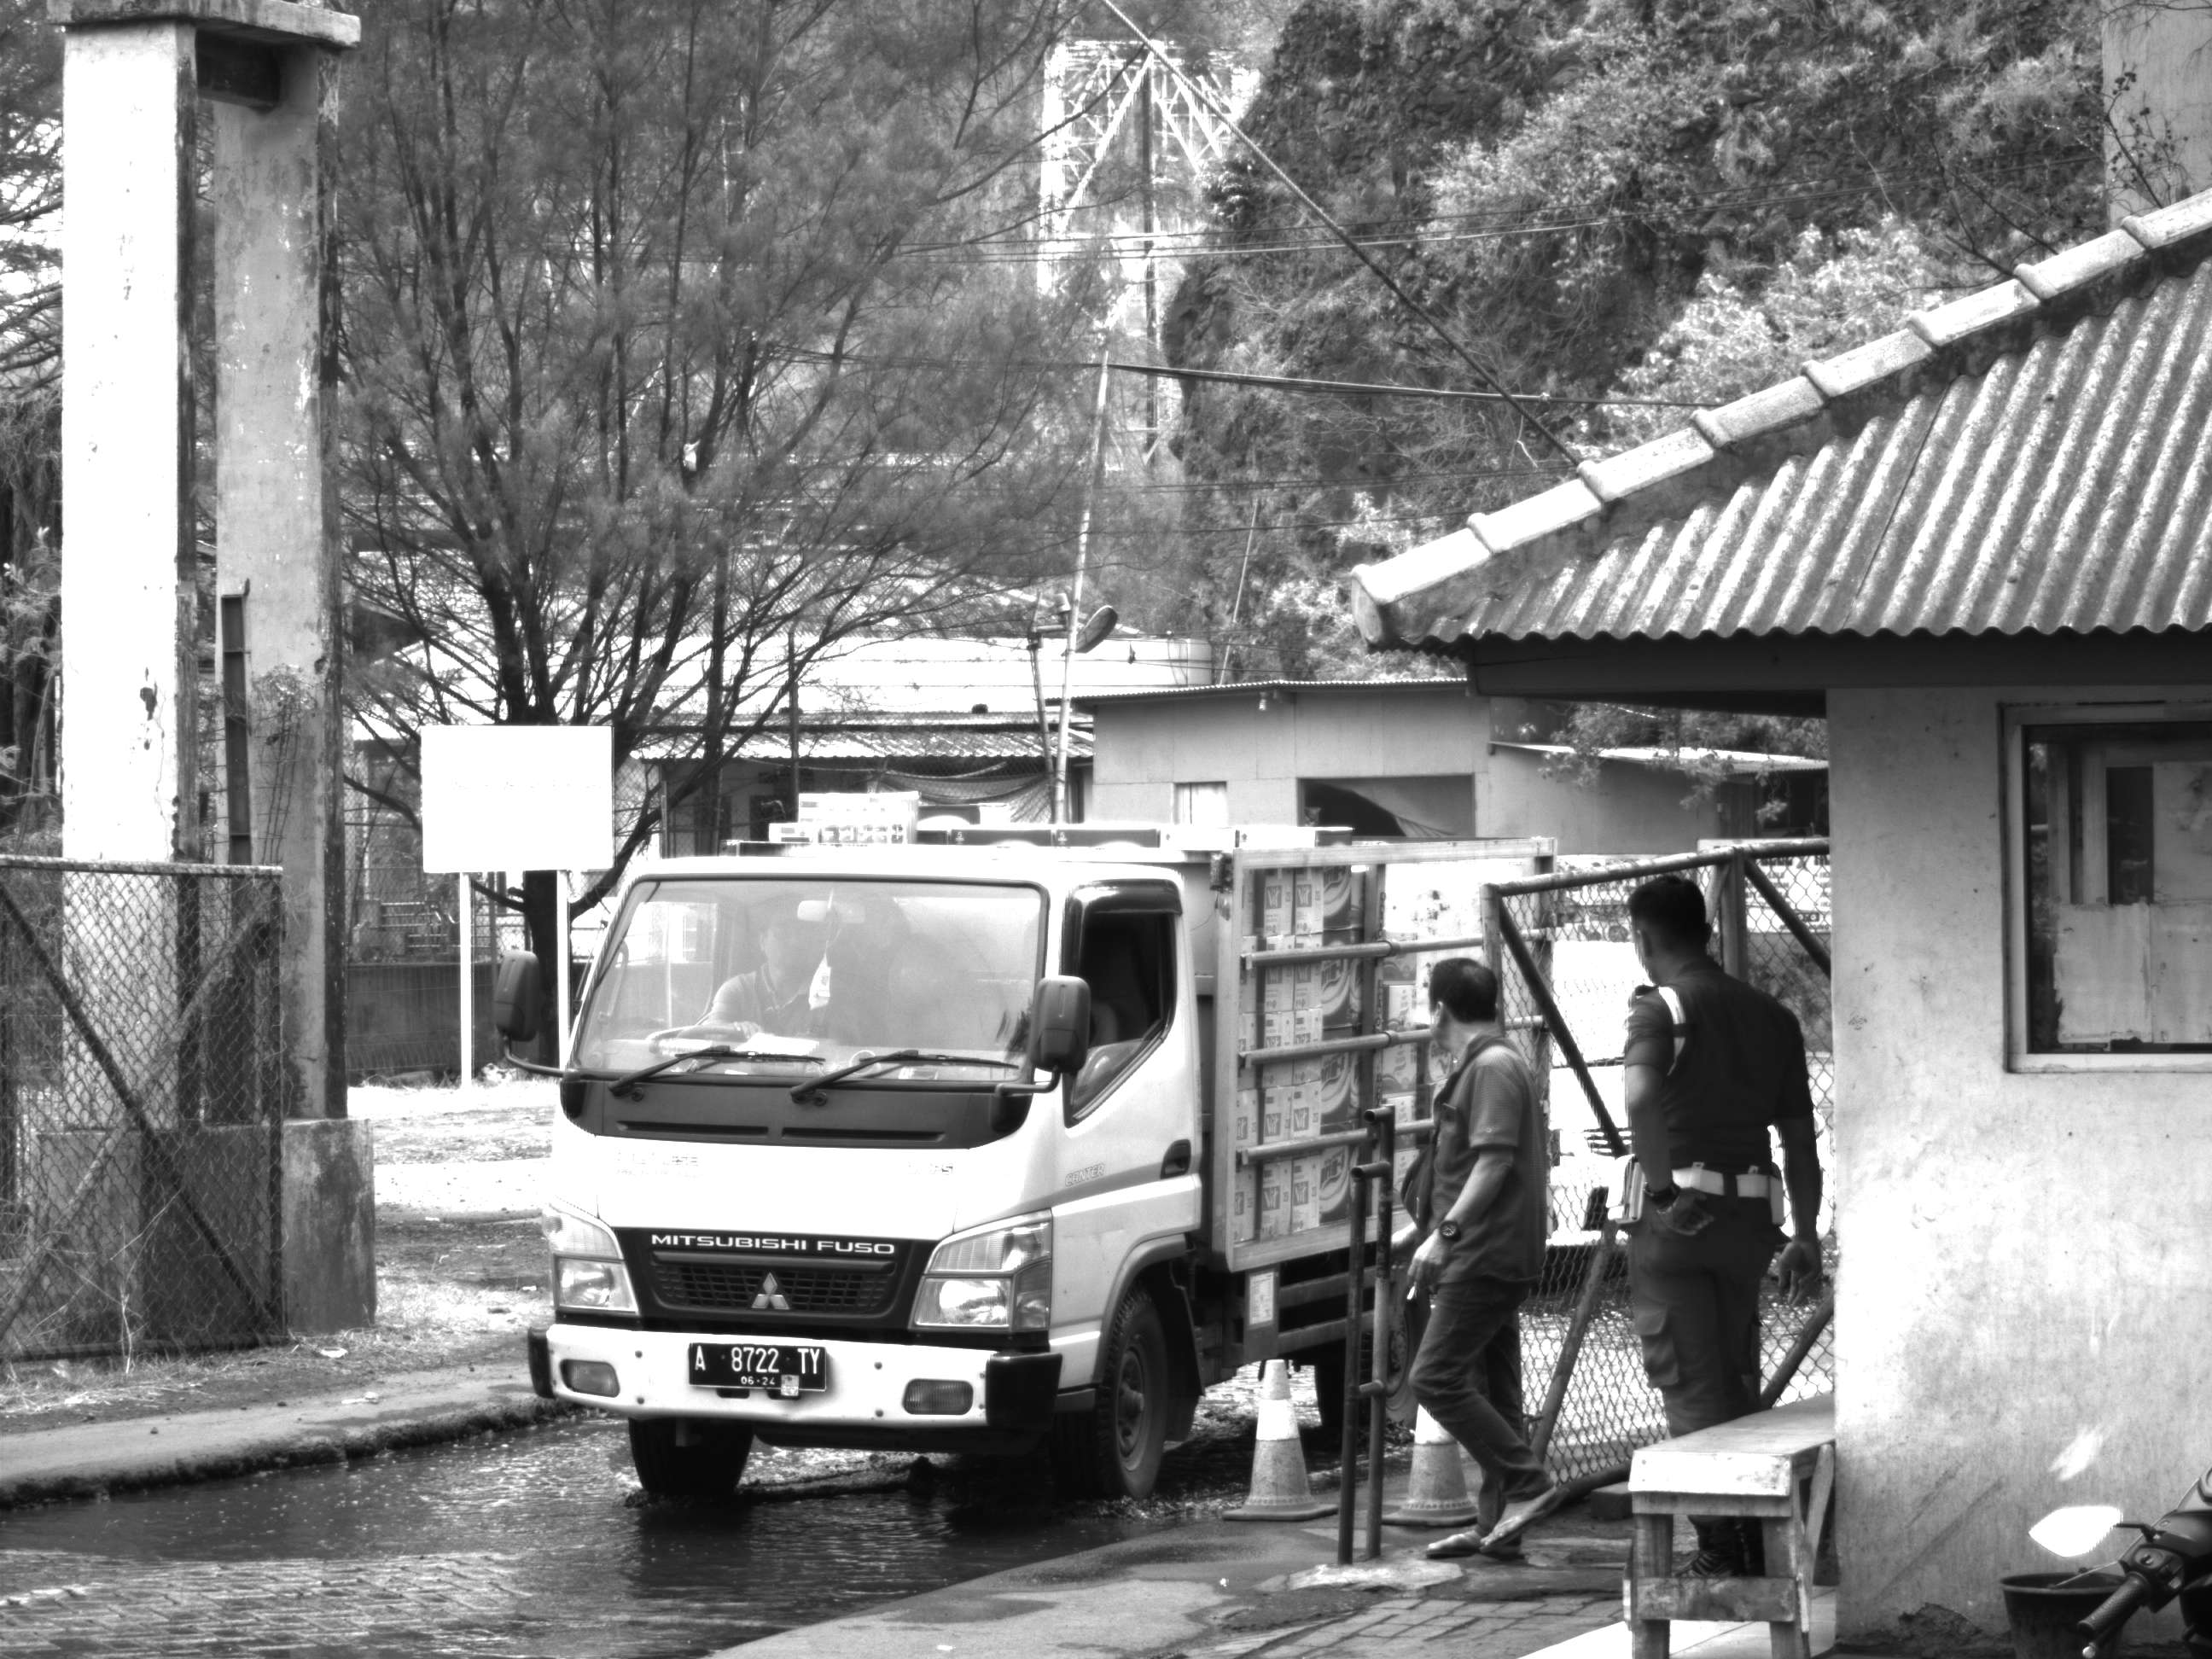day_truck_front: (520, 832, 1212, 1499)
plate: (687, 1336, 830, 1394)
